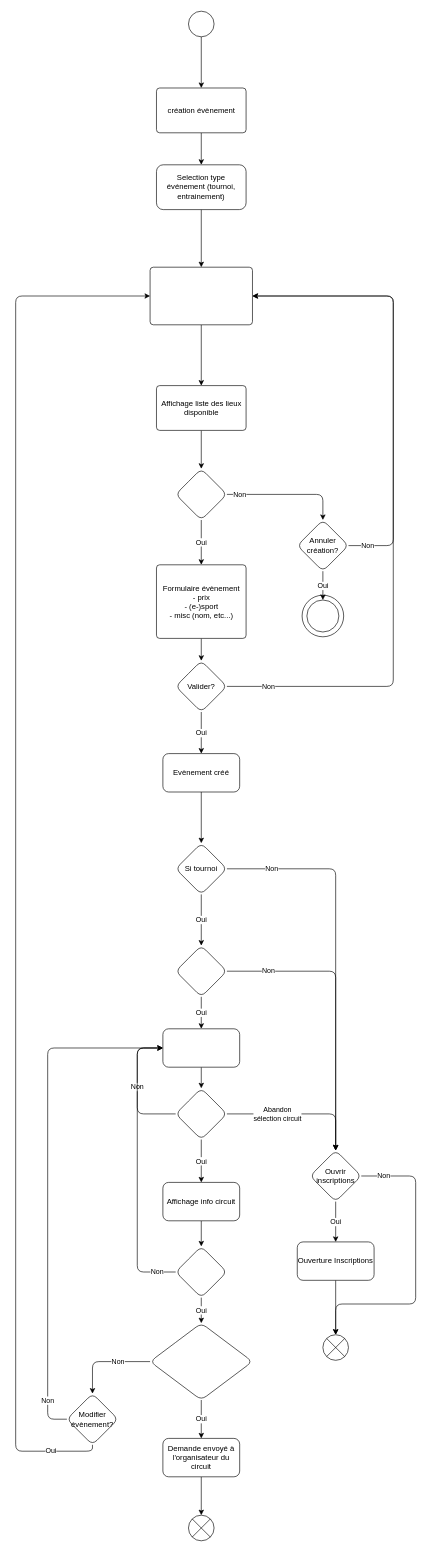
Image size: 432x1552. Some labels were removed from this diagram. The shapes that lost their labels are listed below. From the top down, each one's box as (x1, y1, x2, y2) in pixels, then its label:
(149, 267, 252, 325): Critère présélection lieu - date - ville/région - nbre participant max
(175, 468, 227, 520): Lieu choisi?
(175, 945, 227, 997): Demande inscription circuit
(162, 1028, 240, 1067): Affichage liste circuit disponible
(175, 1088, 227, 1140): selection circuit
(175, 1246, 227, 1298): Validation envoie demande
(149, 1323, 252, 1400): vérifier si évènement correspond au critère de sélection du circuit
